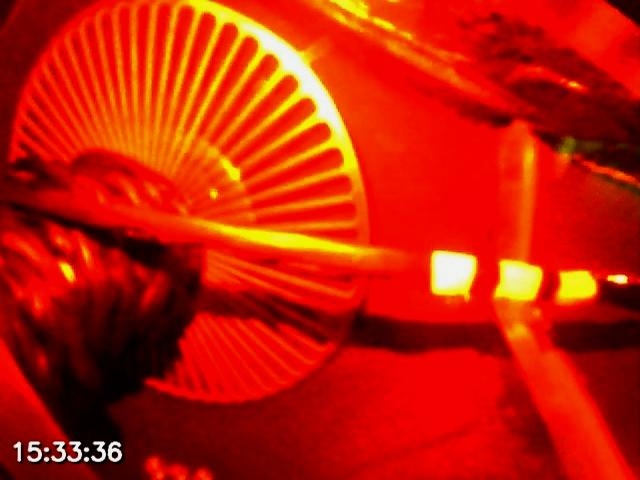white-dots: (428, 249, 598, 306)
